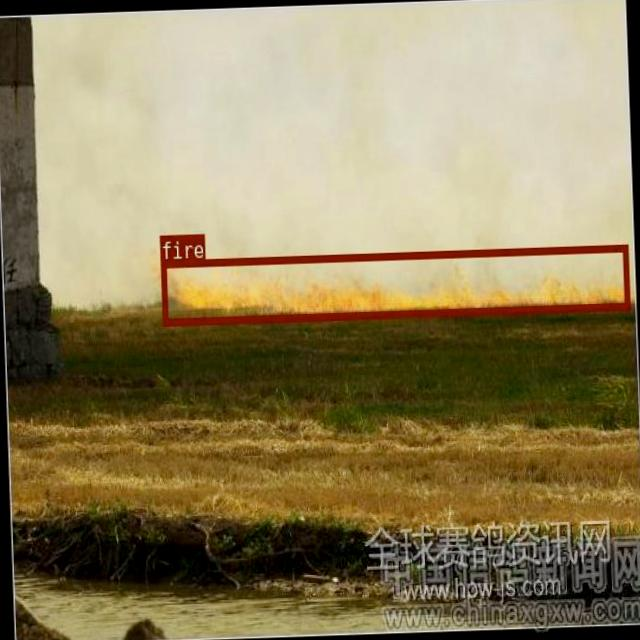fire: (159, 244, 629, 323)
